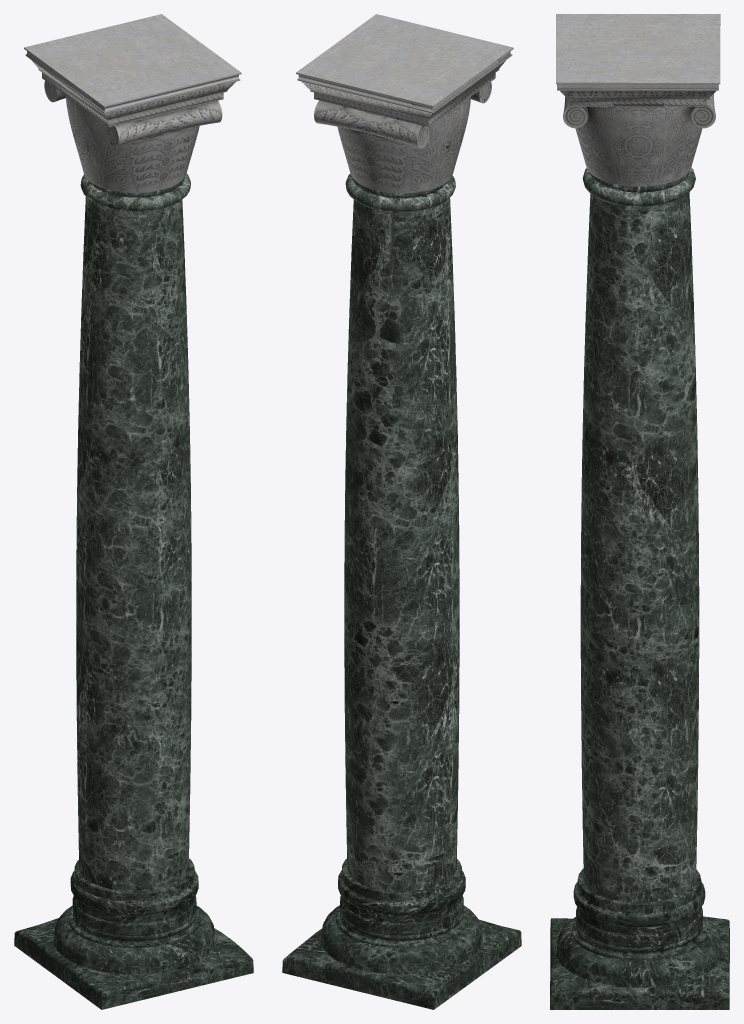
The model's file is Kart04_Sutun.FBX.
3 renders of one model, left to right at view 1: azimuth 30°, elevation 25°; view 2: azimuth 150°, elevation 25°; view 3: azimuth 270°, elevation 25°, orthographic. The views are drawn at different scales.
Parts seen in each view (by area): view 1: VRayProxy_Kolon_Orta_049, SutunUst, VRayProxy_Kolon_Alt_049; view 2: VRayProxy_Kolon_Orta_049, SutunUst, VRayProxy_Kolon_Alt_049; view 3: VRayProxy_Kolon_Orta_049, SutunUst, VRayProxy_Kolon_Alt_049.
Boxes of the visible parts, x1,y1,x2,y2 form: VRayProxy_Kolon_Orta_049: (76,173,191,891); SutunUst: (24,14,241,192); VRayProxy_Kolon_Alt_049: (14,858,253,1009); VRayProxy_Kolon_Orta_049: (344,173,459,891); SutunUst: (296,14,513,193); VRayProxy_Kolon_Alt_049: (282,859,521,1009); VRayProxy_Kolon_Orta_049: (580,167,699,902); SutunUst: (556,14,720,186); VRayProxy_Kolon_Alt_049: (550,868,729,1009).
Bounding box in the file's own units: 51.5 × 291 × 51.46.
Materials: 3 (3 with a texture image).
